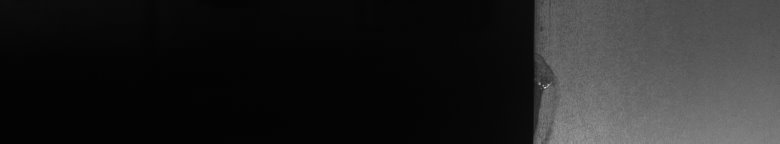hb: (544, 59, 564, 136)
